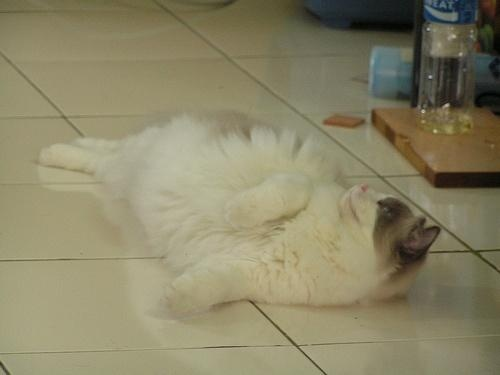bottle: (418, 1, 482, 131)
cat: (36, 110, 440, 319)
